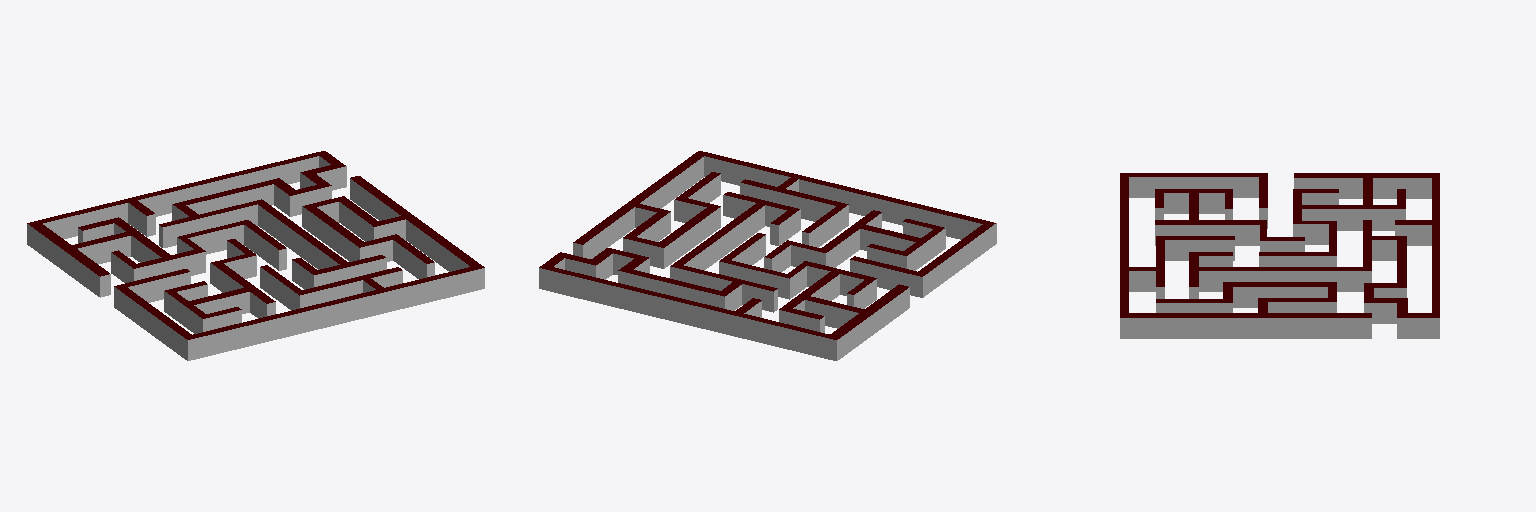
Rendered from Laberinto.obj.
3 renders of one model, left to right at view 1: azimuth 30°, elevation 25°; view 2: azimuth 150°, elevation 25°; view 3: azimuth 270°, elevation 25°, orthographic.
Visible parts, largest first — view 1: Cube; view 2: Cube; view 3: Cube.
Boxes of the visible parts, x1,y1,x2,y2 form: Cube: [27, 151, 484, 360]; Cube: [539, 151, 996, 360]; Cube: [1120, 173, 1439, 338].
Size of the model in its own units: 103 by 6.93 by 95.57.